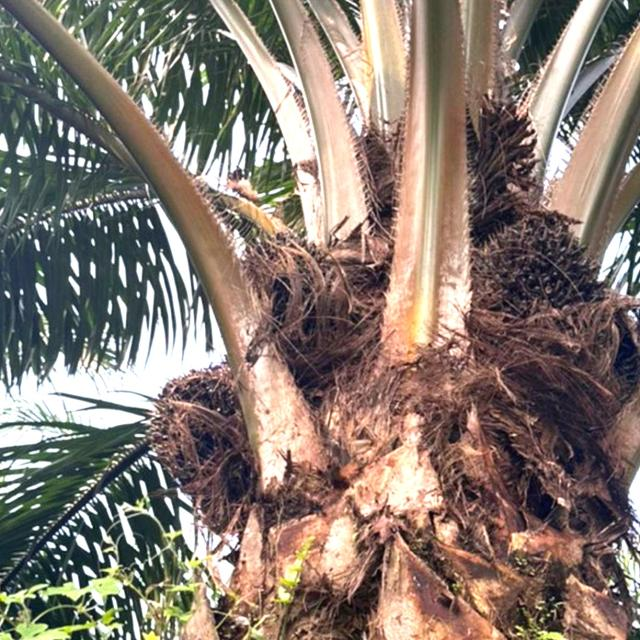unripe: (469, 213, 640, 388), (145, 364, 274, 532)
